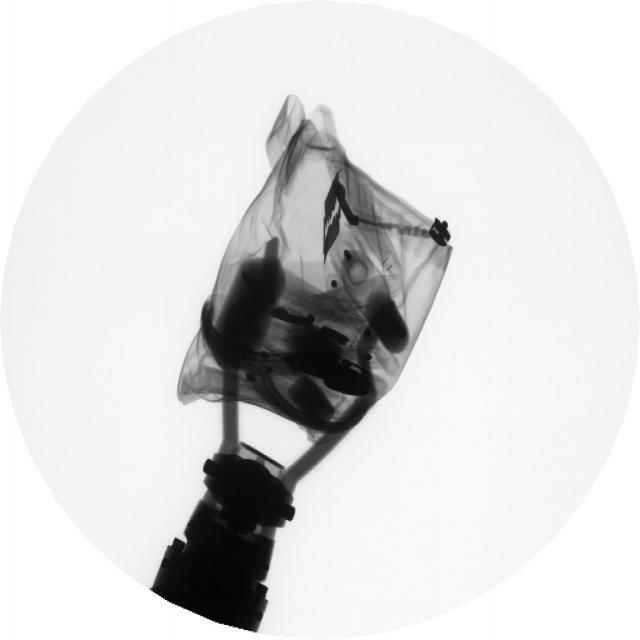BLADE: (315, 163, 387, 264)
